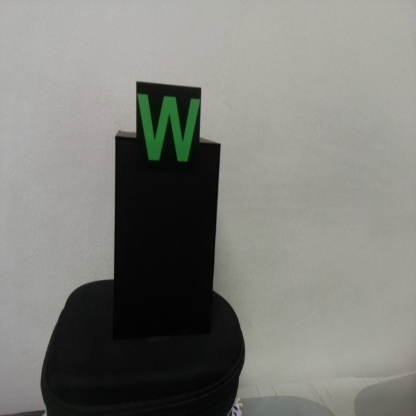id_12: (135, 81, 200, 178)
